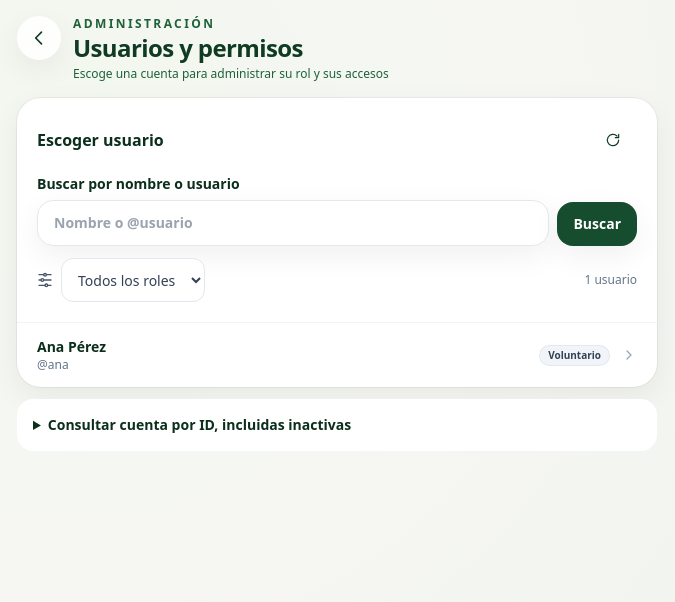
Test: Usuarios y permisos › cambiar de cuenta borra selección y no muestra datos de la cuenta anterior
Click the button with aria-label "Seleccionar a Ana Pérez (ana)" at [72, 346], box [17,323,657,387]
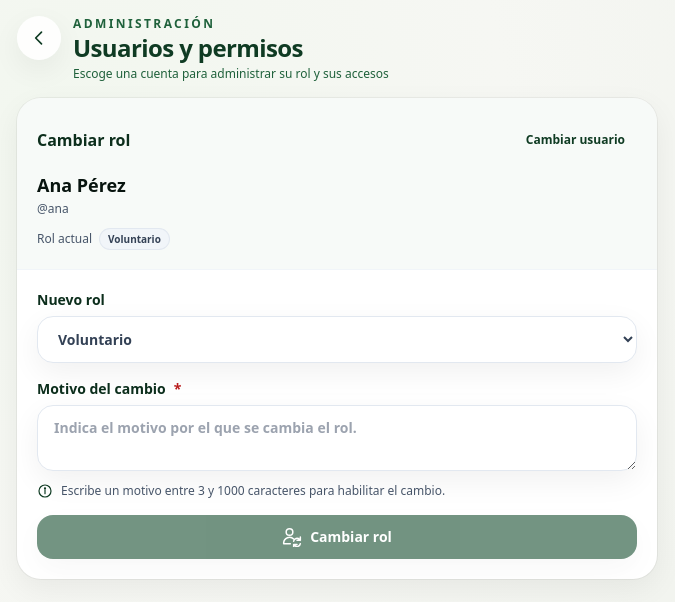
Expected: the dropdown labelled "Nuevo rol" is shown, [37,316,637,362]
